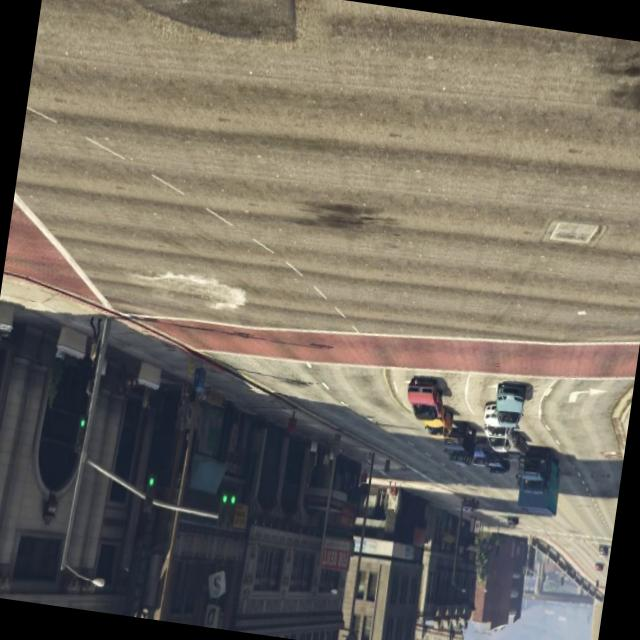Green-Signal: (212, 474, 242, 537), (136, 458, 162, 516), (68, 402, 92, 460)
